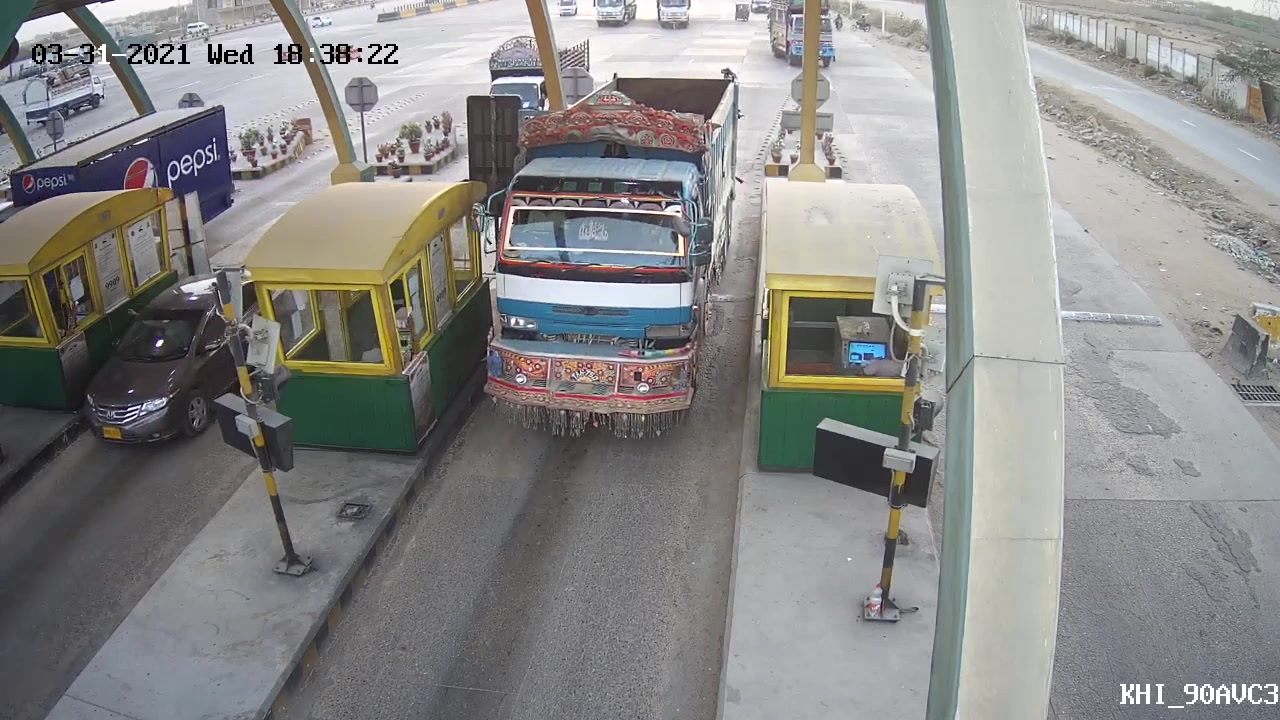F5: (462, 66, 746, 442)
